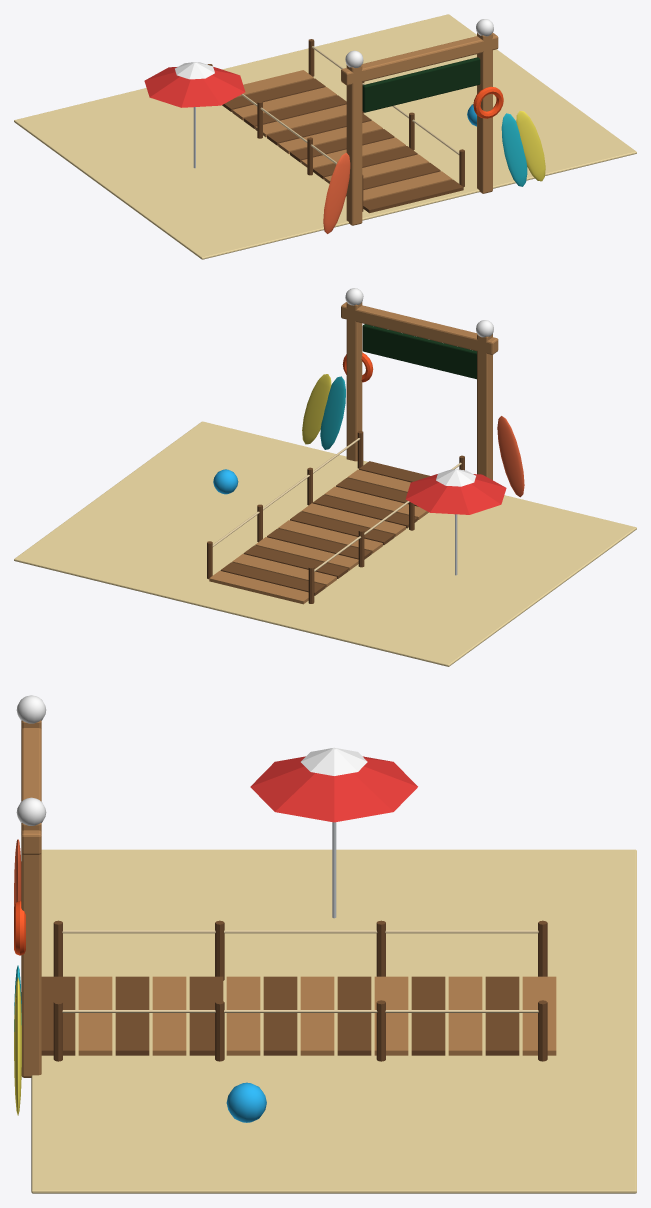
The model's file is foot_beach.glb.
The picture shows the model from 3 angles, top to bottom: view 1: azimuth 30°, elevation 25°; view 2: azimuth 150°, elevation 25°; view 3: azimuth 270°, elevation 25°; orthographic projection. The views are drawn at different scales.
Parts seen in each view (by area): view 1: FootBeach_body; view 2: FootBeach_body; view 3: FootBeach_body.
Part boxes in pixels (box(x1,y1,x2,y2)): FootBeach_body: box(14, 14, 636, 259); FootBeach_body: box(14, 288, 636, 666); FootBeach_body: box(14, 695, 636, 1193).
Size of the model in its own units: 12 by 4.54 by 9.26.
